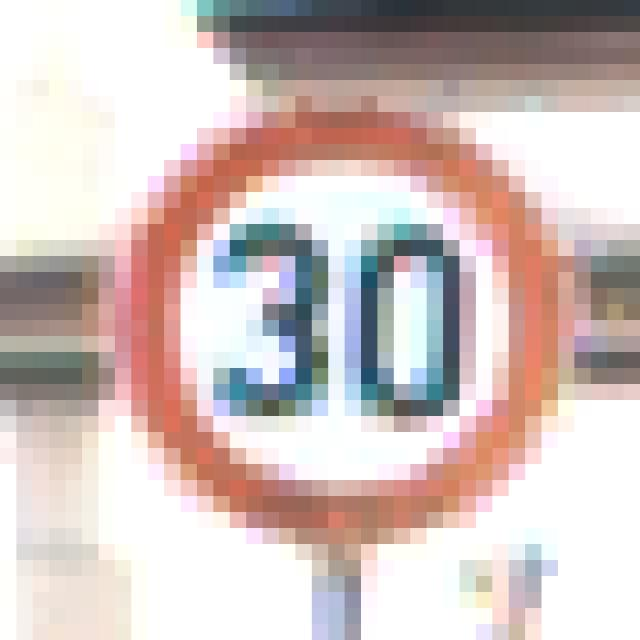Speed Limit -30-: (74, 72, 533, 536)
